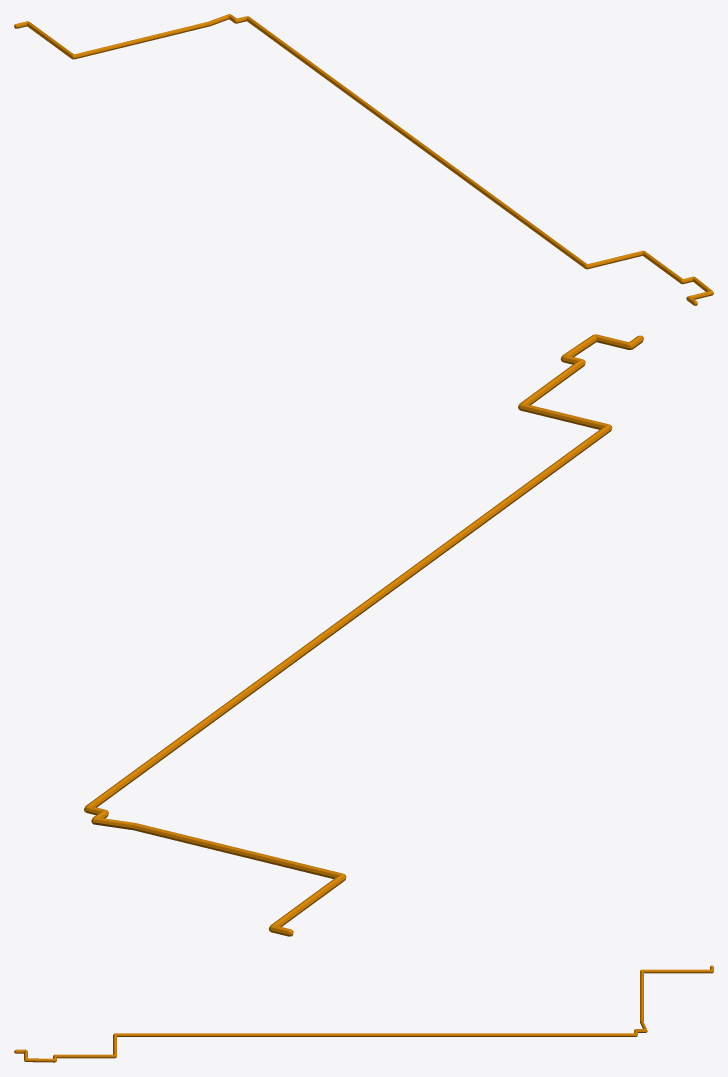
3 renders of one model, top to bottom at view 1: azimuth 30°, elevation 25°; view 2: azimuth 150°, elevation 25°; view 3: azimuth 270°, elevation 25°, orthographic. The views are drawn at different scales.
Bounding box in the file's own units: 1122 × 20 × 3495.
